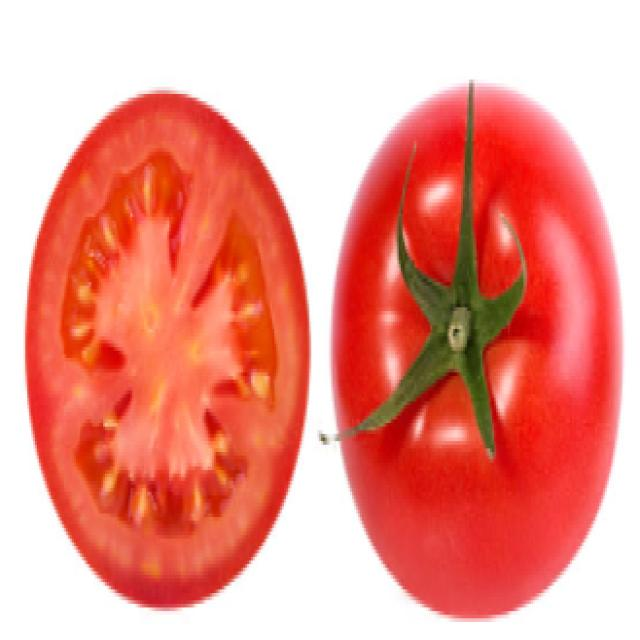Tomato: (9, 74, 316, 630), (321, 78, 628, 612)
